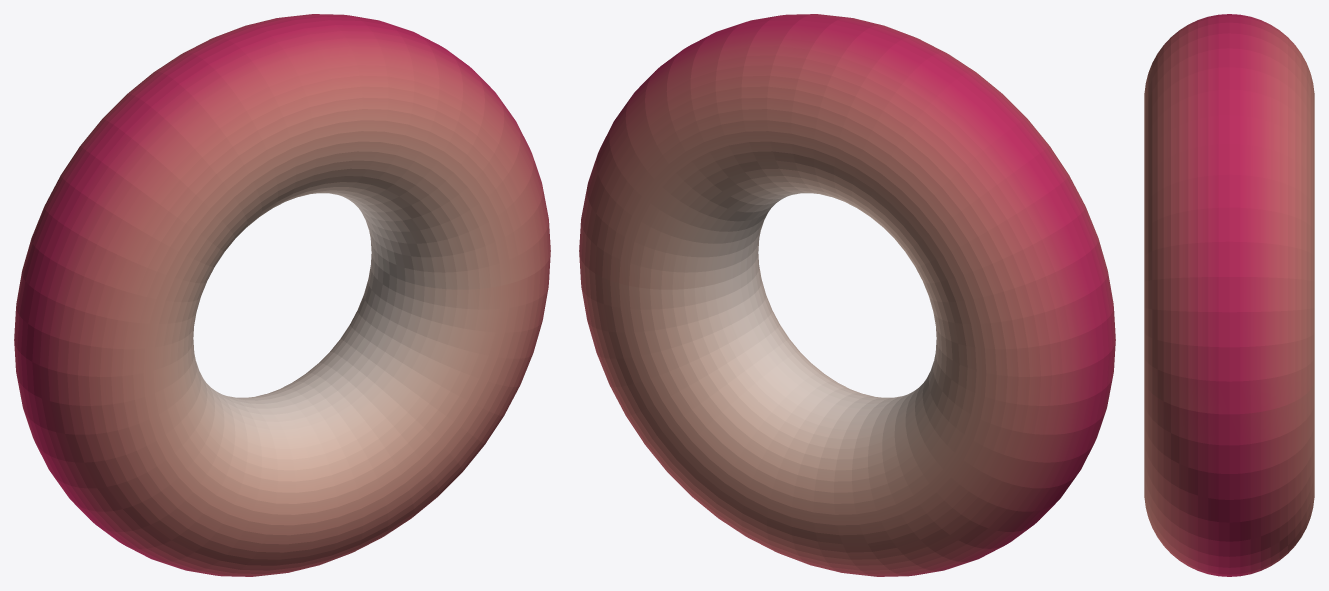
The picture shows the model from 3 angles, left to right: view 1: azimuth 30°, elevation 25°; view 2: azimuth 150°, elevation 25°; view 3: azimuth 270°, elevation 25°; orthographic projection. The views are drawn at different scales.
Parts seen in each view (by area): view 1: world; view 2: world; view 3: world.
Part boxes in pixels (box(x1,y1,x2,y2)): world: box(14, 14, 550, 576); world: box(579, 14, 1115, 576); world: box(1144, 14, 1314, 576).
Size of the model in its own units: 27.73 by 27.68 by 8.38.
